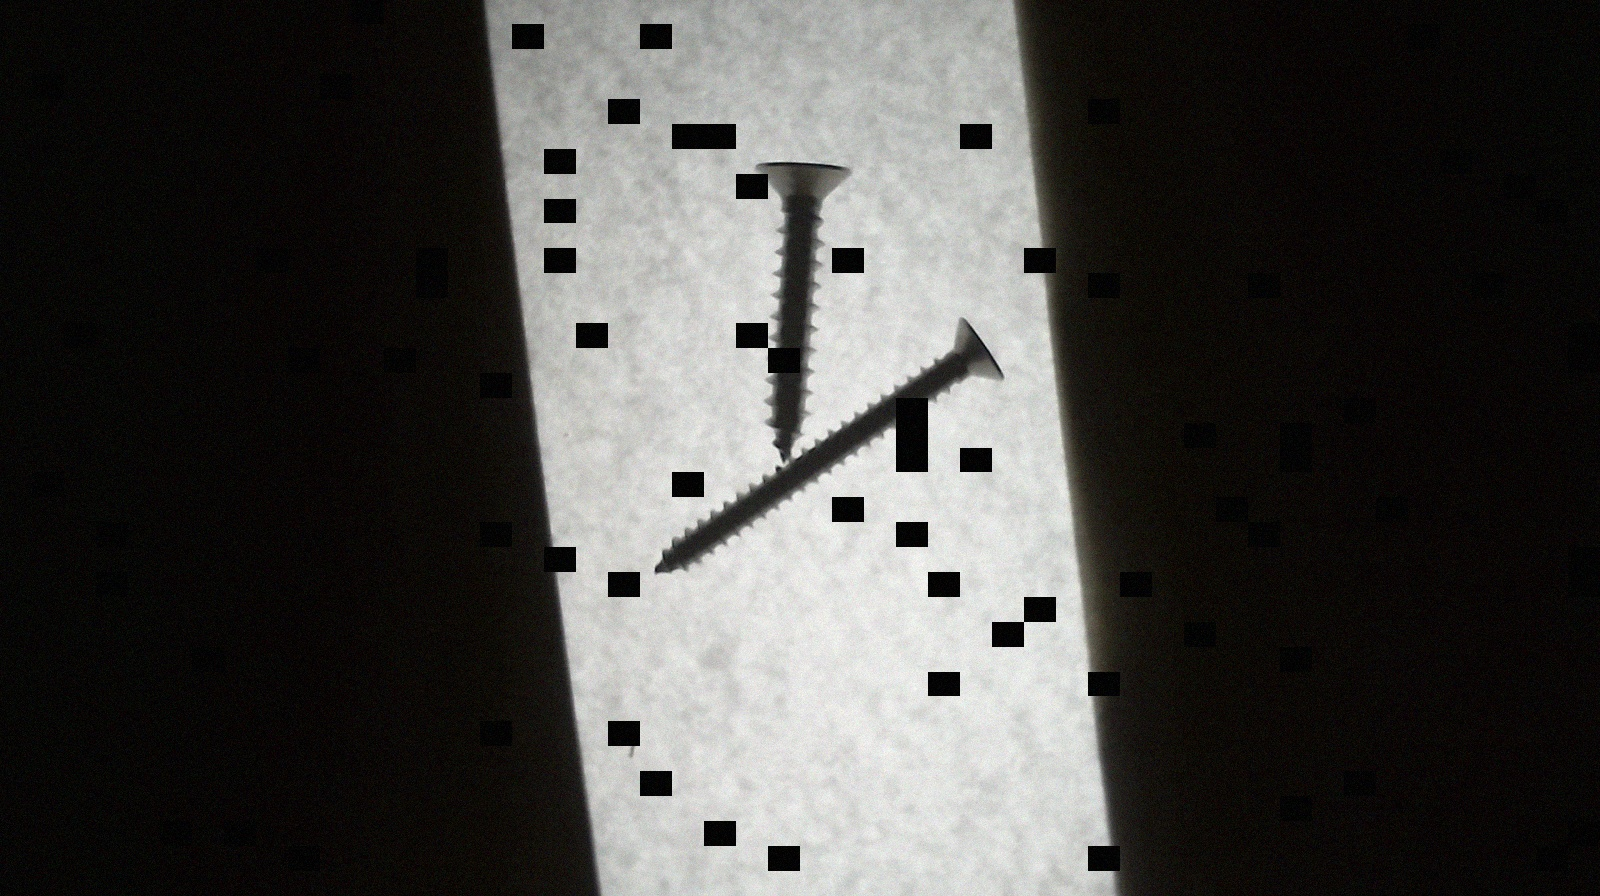S001: (732, 156, 857, 474)
S002: (653, 309, 1007, 583)
